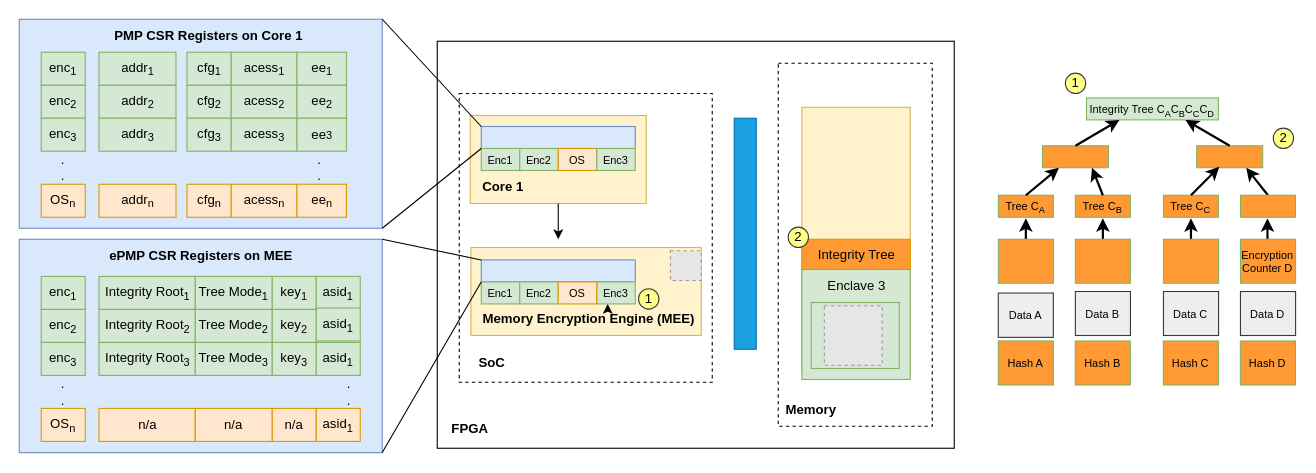
This 1316x473 diagram has some shape labels left out. Grey dashed boxes stand in for pictures. The centre of each missing label's shape, as x and y in pixels:
Encryption Counter A: (x=1025, y=260)
Encryption Counter B: (x=1102, y=260)
Encryption Counter C: (x=1190, y=260)
ePMP: (x=557, y=270)
PMP: (x=557, y=136)
System Bus: (x=744, y=233)
Tree C A C B: (x=1074, y=156)
Tree C C C D: (x=1229, y=156)
Tree C D: (x=1267, y=205)
